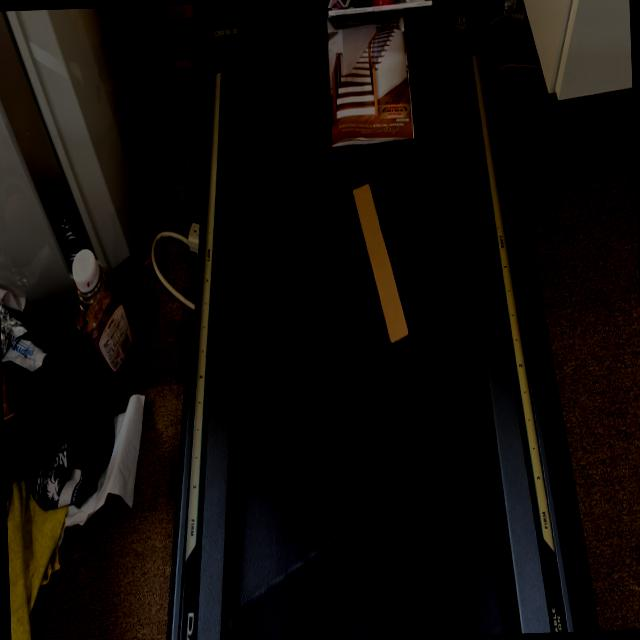Recycle: (321, 0, 415, 149), (349, 180, 410, 346)
